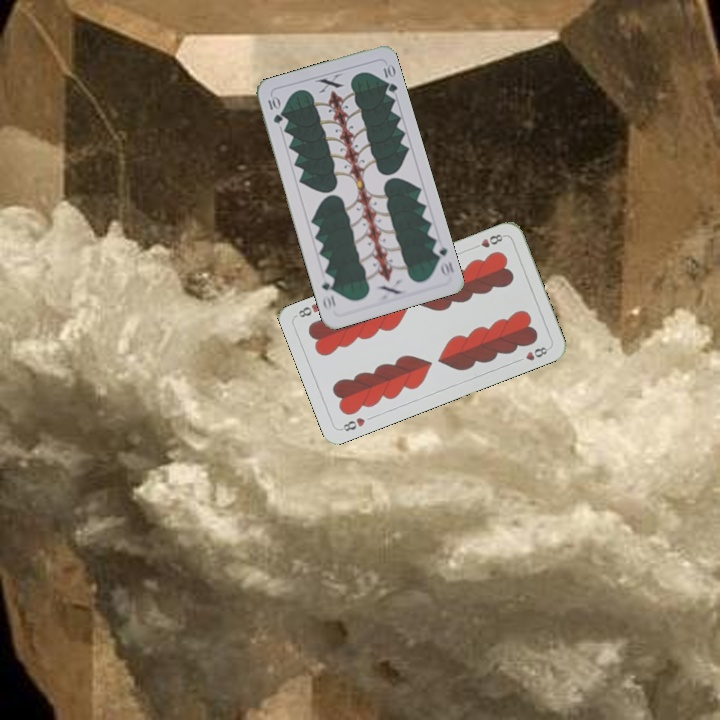G10: (429, 240, 456, 279), (264, 92, 285, 126)
H8: (468, 230, 508, 252), (336, 413, 368, 434)
